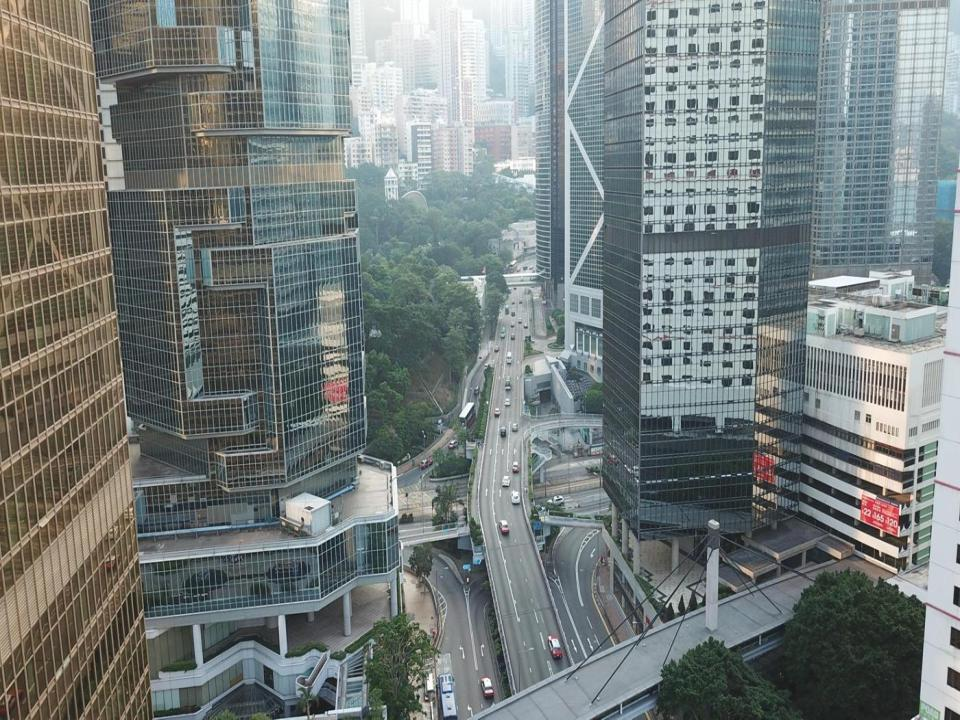bus: (456, 401, 476, 435), (509, 259, 518, 272), (499, 325, 507, 338), (504, 376, 511, 390), (506, 351, 511, 364), (504, 304, 509, 314), (522, 265, 529, 270)
car: (436, 673, 455, 719), (547, 635, 562, 661), (480, 676, 493, 699), (547, 494, 565, 507), (497, 519, 510, 535), (419, 458, 433, 470), (510, 490, 521, 504), (448, 439, 461, 450), (501, 476, 510, 488), (512, 460, 519, 475), (499, 424, 506, 438), (511, 421, 518, 434), (494, 406, 502, 417), (473, 384, 481, 395), (504, 398, 512, 406), (511, 311, 518, 317), (494, 344, 499, 352), (510, 321, 515, 329), (510, 332, 515, 340), (484, 364, 490, 370), (518, 297, 522, 304), (523, 323, 528, 328), (511, 298, 515, 304), (518, 318, 522, 323)
